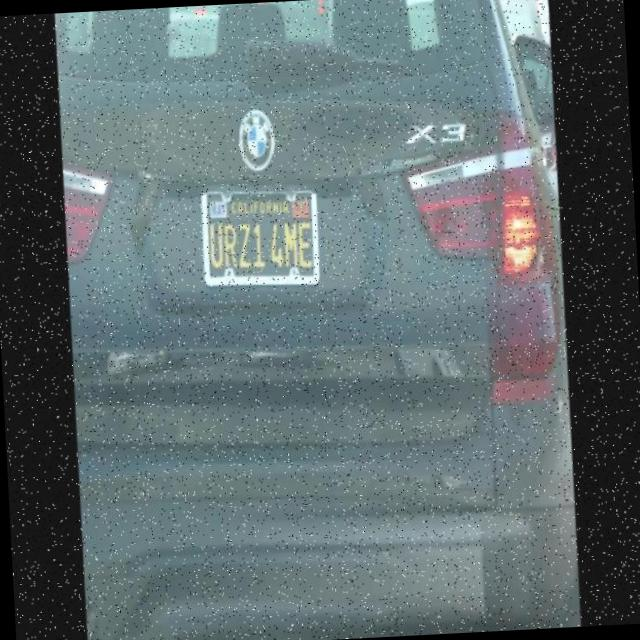LicensePlate: (200, 177, 322, 297)
